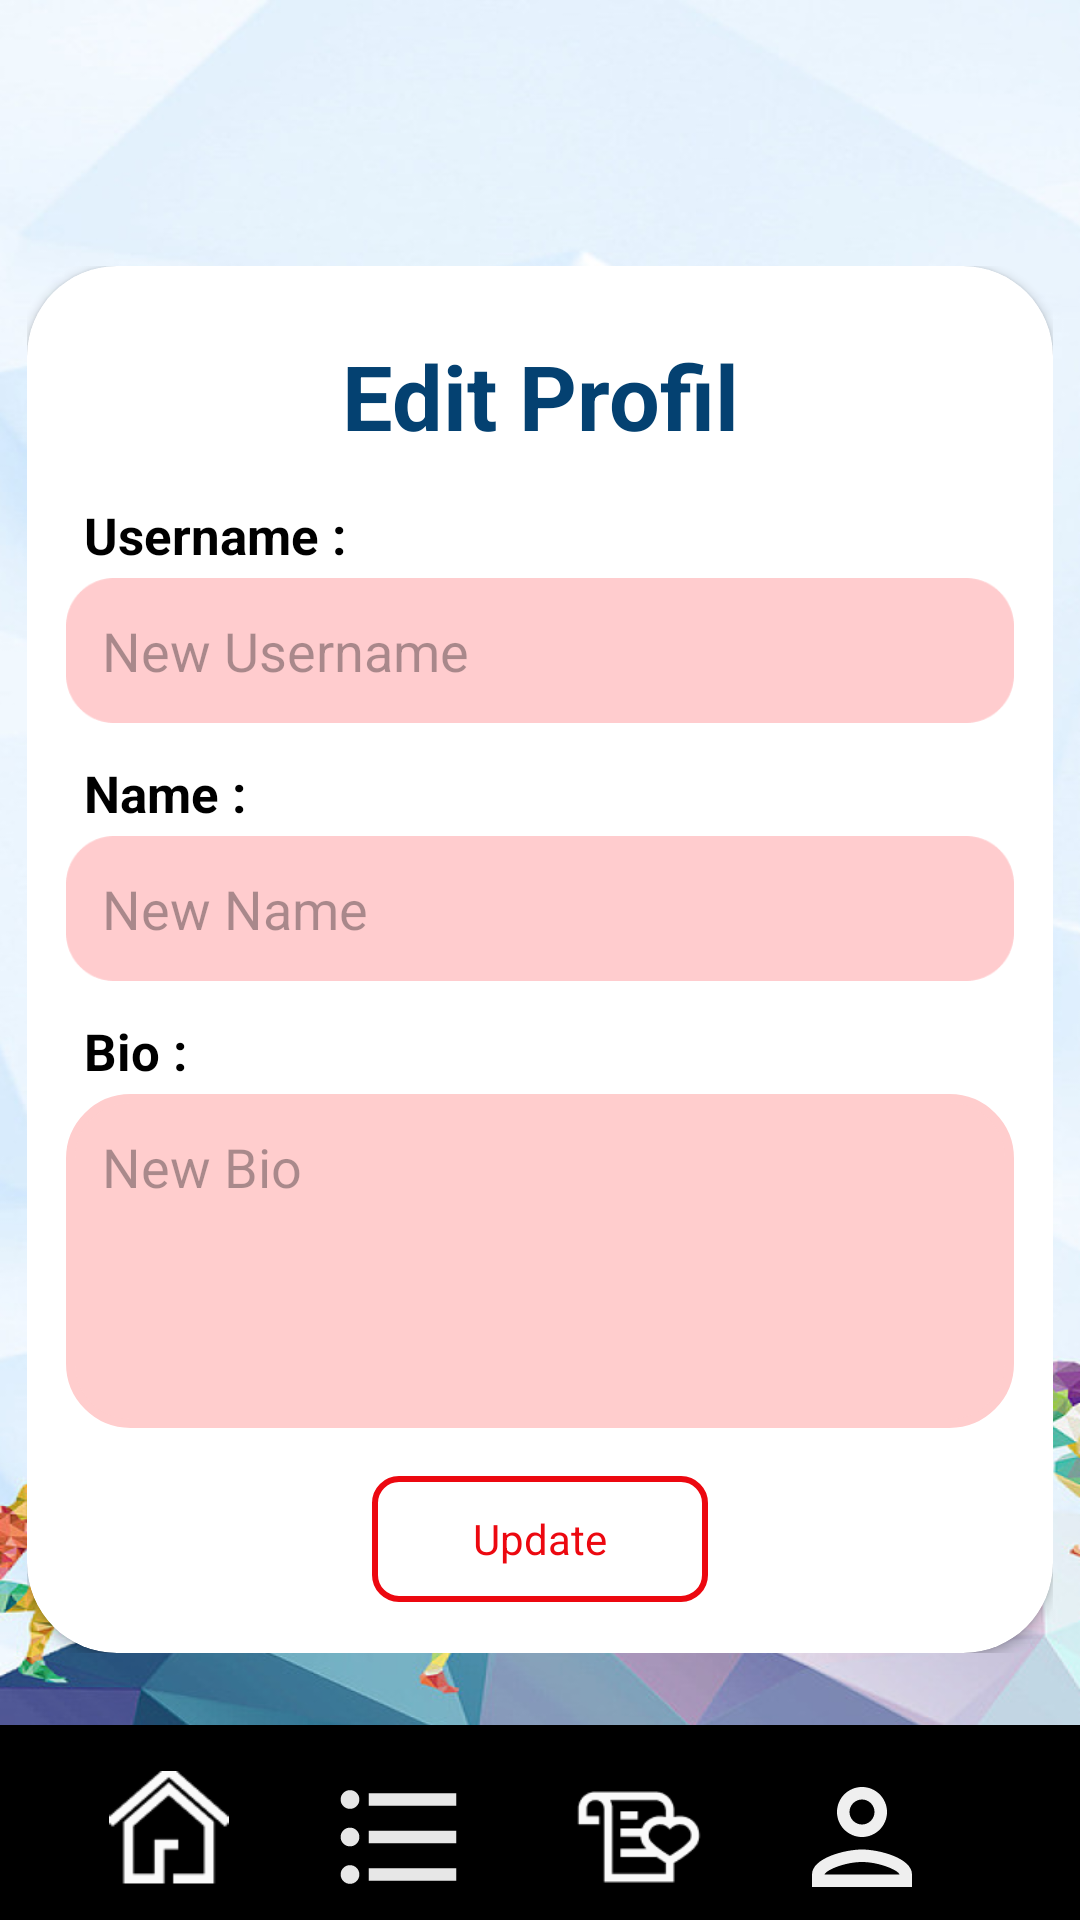

Screen size 1080*1920. Icon name, then its box in pixels as [left=x1, top=y1, right=x2, bottom=y2]:
format list bulleted: [left=340, top=1790, right=457, bottom=1884]
home: [left=109, top=1771, right=229, bottom=1884]
person: [left=812, top=1787, right=912, bottom=1887]
wishlist: [left=577, top=1791, right=700, bottom=1883]
